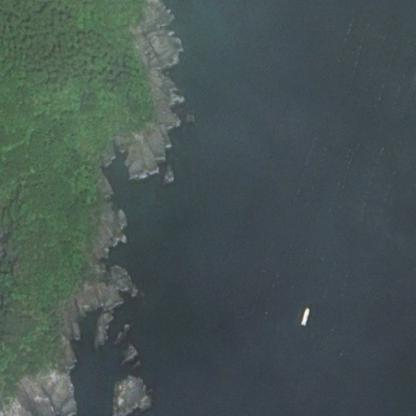ship: (300, 315, 309, 317)
